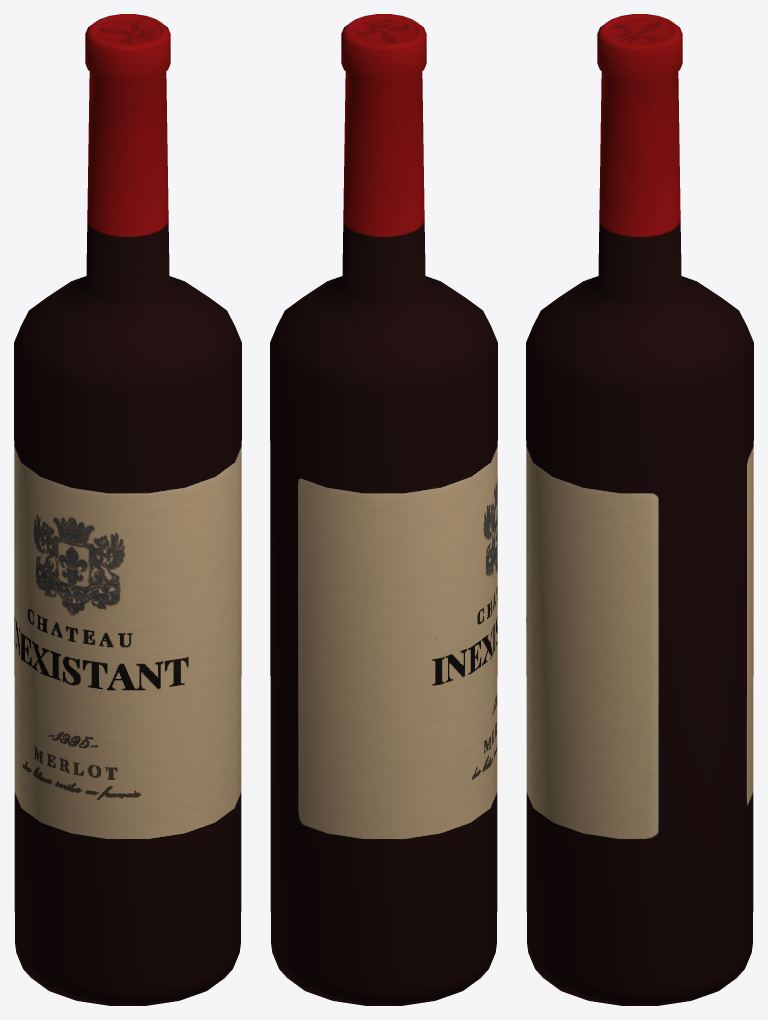
The picture shows the model from 3 angles, left to right: view 1: azimuth 30°, elevation 25°; view 2: azimuth 150°, elevation 25°; view 3: azimuth 270°, elevation 25°; orthographic projection.
Parts seen in each view (by area): view 1: Wine_low; view 2: Wine_low; view 3: Wine_low.
Boxes of the visible parts, <box> form: Wine_low: <box>14,14,241,1005</box>; Wine_low: <box>270,14,497,1005</box>; Wine_low: <box>526,14,753,1005</box>.
Bounding box in the file's own units: 0.0837 × 0.3853 × 0.085.
1 material, 1 textured.
